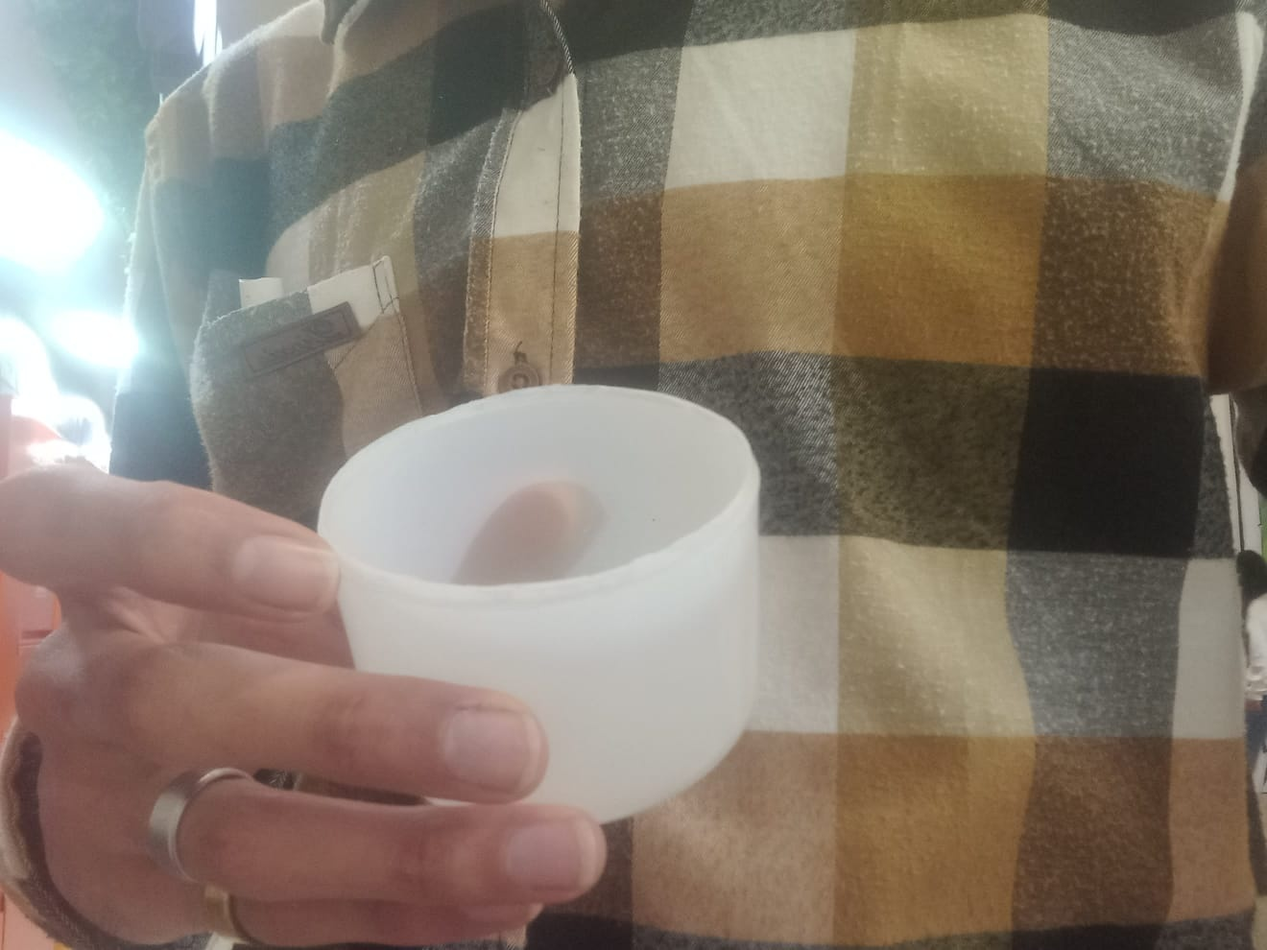Plastico: (314, 382, 763, 827)
